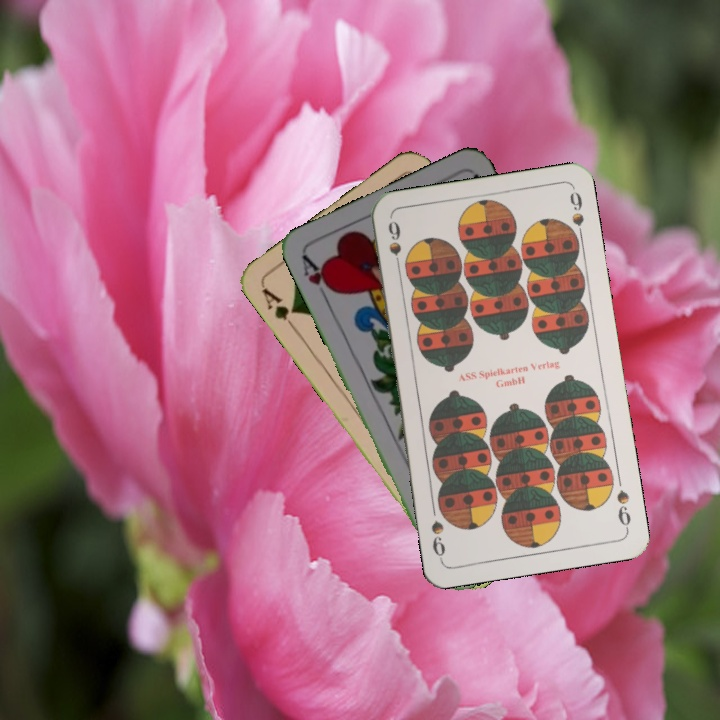GA: (257, 283, 301, 334)
HA: (298, 251, 338, 306)
S9: (384, 216, 404, 275), (612, 486, 634, 533)
